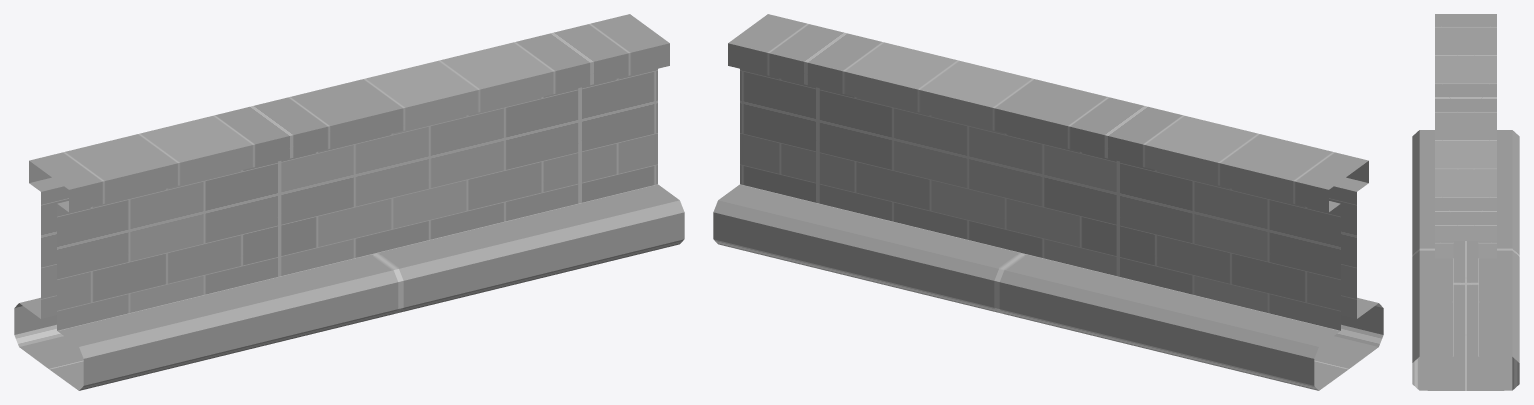
The model's file is proto_border_sidewalk_01.fbx.
3 views of the same model, side by side, from view 1: azimuth 30°, elevation 25°; view 2: azimuth 150°, elevation 25°; view 3: azimuth 270°, elevation 25° (orthographic). The views are drawn at different scales.
Visible parts, largest first — view 1: proto_border_sidewalk_01; view 2: proto_border_sidewalk_01; view 3: proto_border_sidewalk_01.
Boxes of the visible parts, <box> form: proto_border_sidewalk_01: <box>14,14,684,390</box>; proto_border_sidewalk_01: <box>713,14,1383,390</box>; proto_border_sidewalk_01: <box>1412,14,1519,390</box>.
Size of the model in its own units: 200 by 61.72 by 40.
